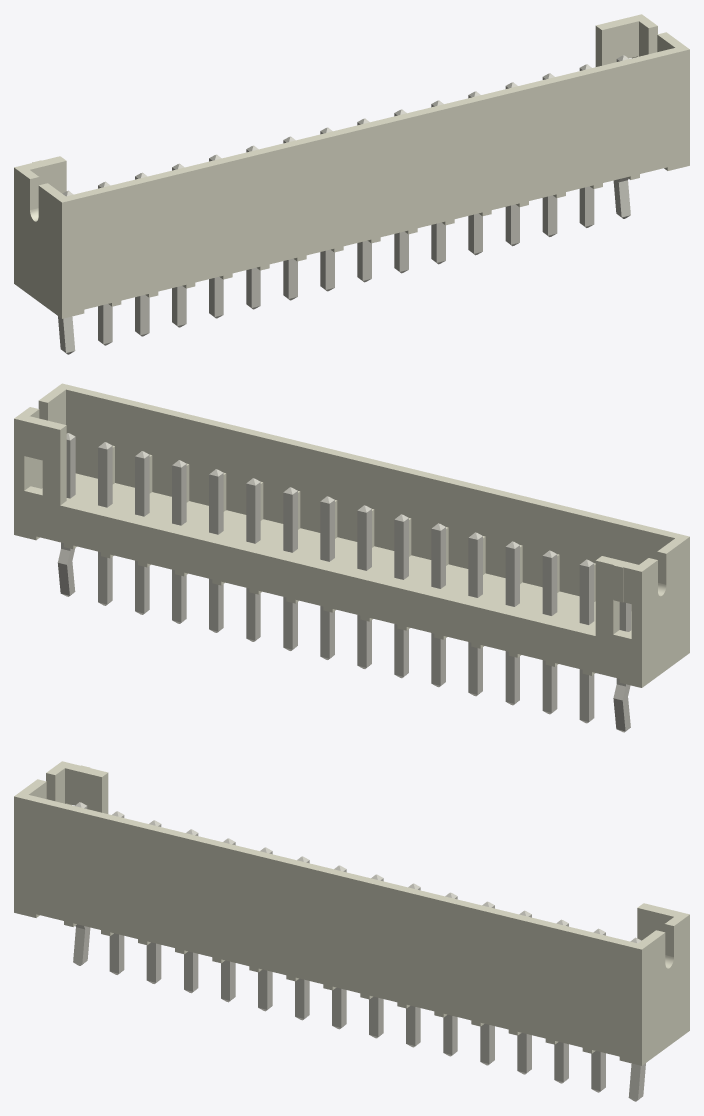
File: kc-jst_ph_b16b-ph-k_1x16_p2.00mm_vertical.glb
3 renders of one model, top to bottom at view 1: azimuth 30°, elevation 25°; view 2: azimuth 150°, elevation 25°; view 3: azimuth 330°, elevation 25°, orthographic.
Parts seen in each view (by area): view 1: 0.75_0.75_0.5833333333333334_0, 0.6666666666666666_0.6666666666666666_0.5833333333333334_0.8; view 2: 0.75_0.75_0.5833333333333334_0, 0.6666666666666666_0.6666666666666666_0.5833333333333334_0.8; view 3: 0.75_0.75_0.5833333333333334_0, 0.6666666666666666_0.6666666666666666_0.5833333333333334_0.8.
Part boxes in pixels (x1,y1,x2,y2): 0.75_0.75_0.5833333333333334_0: [14, 14, 689, 318]; 0.6666666666666666_0.6666666666666666_0.5833333333333334_0.8: [58, 55, 630, 354]; 0.75_0.75_0.5833333333333334_0: [14, 383, 689, 687]; 0.6666666666666666_0.6666666666666666_0.5833333333333334_0.8: [57, 433, 631, 732]; 0.75_0.75_0.5833333333333334_0: [14, 761, 689, 1065]; 0.6666666666666666_0.6666666666666666_0.5833333333333334_0.8: [73, 802, 645, 1101].
Size of the model in its own units: 3.39 by 0.9401 by 0.4548.
